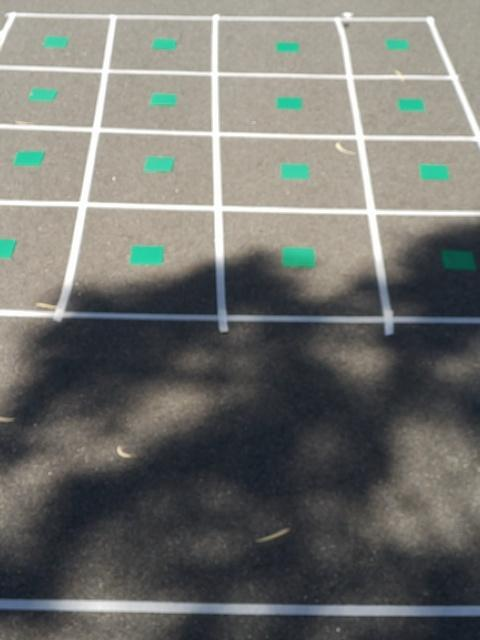weed: (442, 247, 477, 274), (279, 245, 318, 268), (128, 243, 166, 266), (142, 153, 176, 174), (277, 161, 311, 182), (418, 162, 451, 182), (11, 149, 47, 167), (147, 91, 179, 107), (397, 97, 426, 114), (28, 85, 58, 101), (149, 35, 179, 51), (275, 95, 304, 111), (382, 37, 411, 51), (0, 238, 17, 259), (274, 40, 301, 53), (42, 35, 69, 46)
